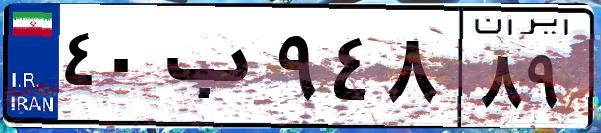0: (110, 28, 158, 98)
4: (330, 28, 385, 110), (57, 26, 110, 100)
8: (385, 28, 445, 110), (475, 38, 525, 113)
9: (270, 28, 330, 110), (525, 38, 570, 115)
ب: (158, 20, 270, 120)
